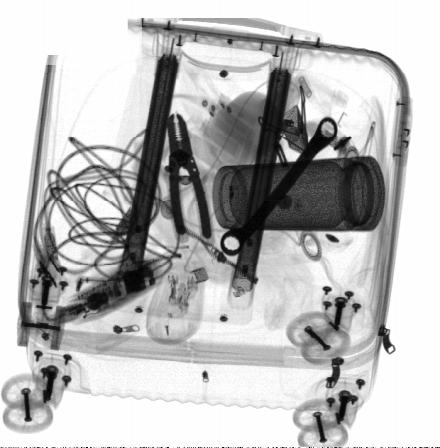Pliers: (161, 114, 215, 247)
Wrench: (220, 117, 337, 255)
